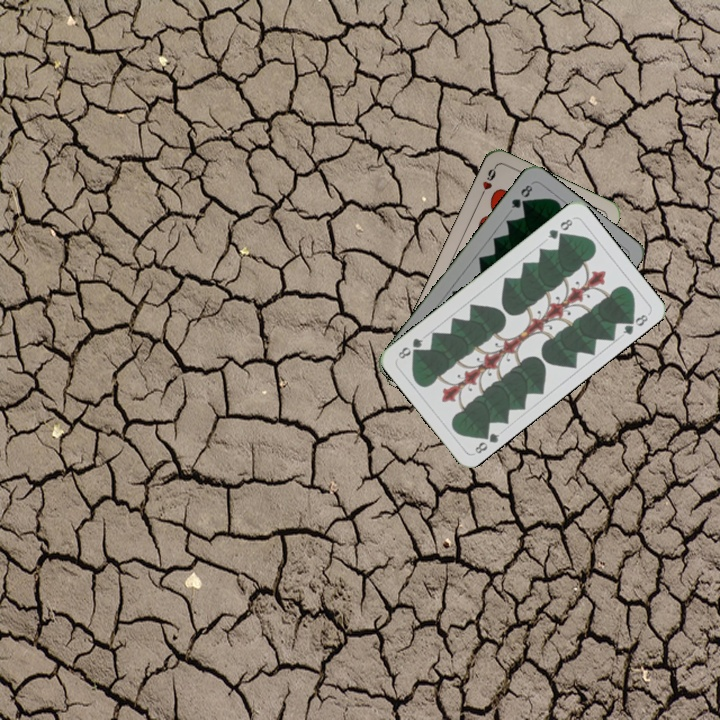G8: (471, 426, 502, 456), (507, 180, 535, 211), (543, 215, 575, 242)
H9: (475, 163, 499, 201)
